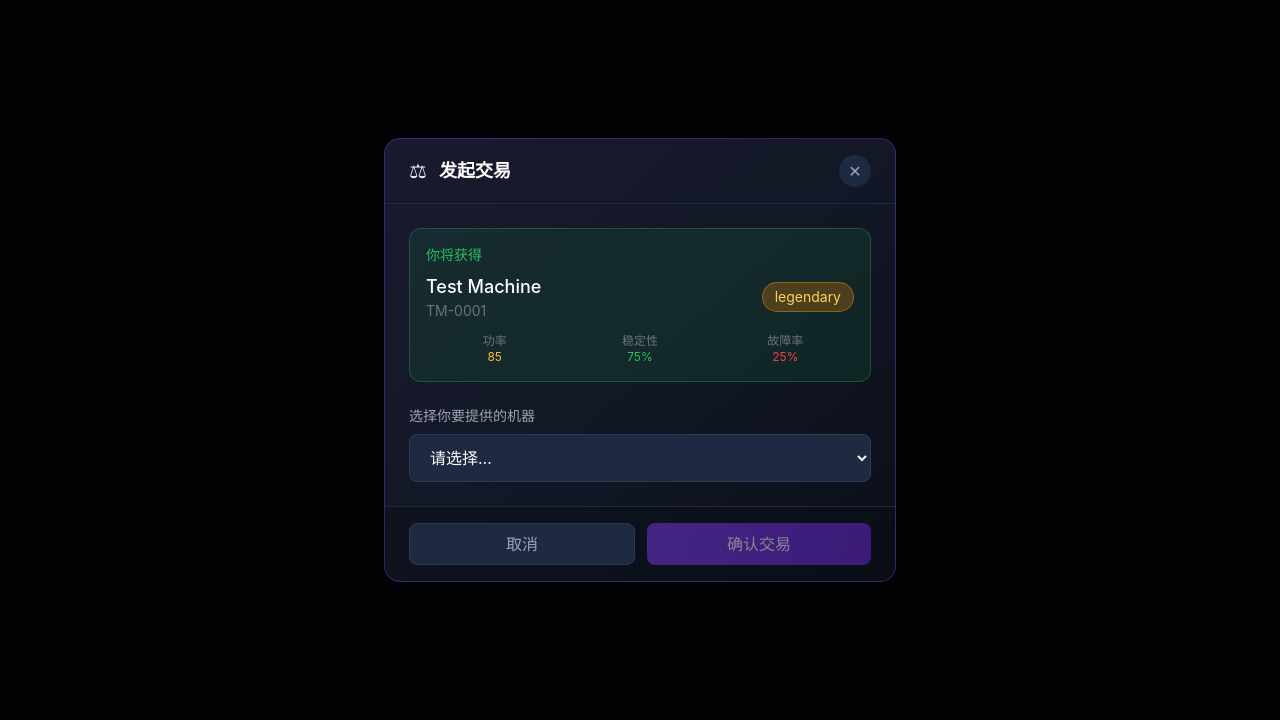
Test case: TradeProposalModal › Submission Success (AC-EXCHANGE-UI-006, AC-EXCHANGE-UI-007) › should show success state after submission
# Select a machine
Select "Alpha Machine (rare) - MC-0001" in the dropdown at [640, 458], box left=409, top=434, right=871, bottom=482
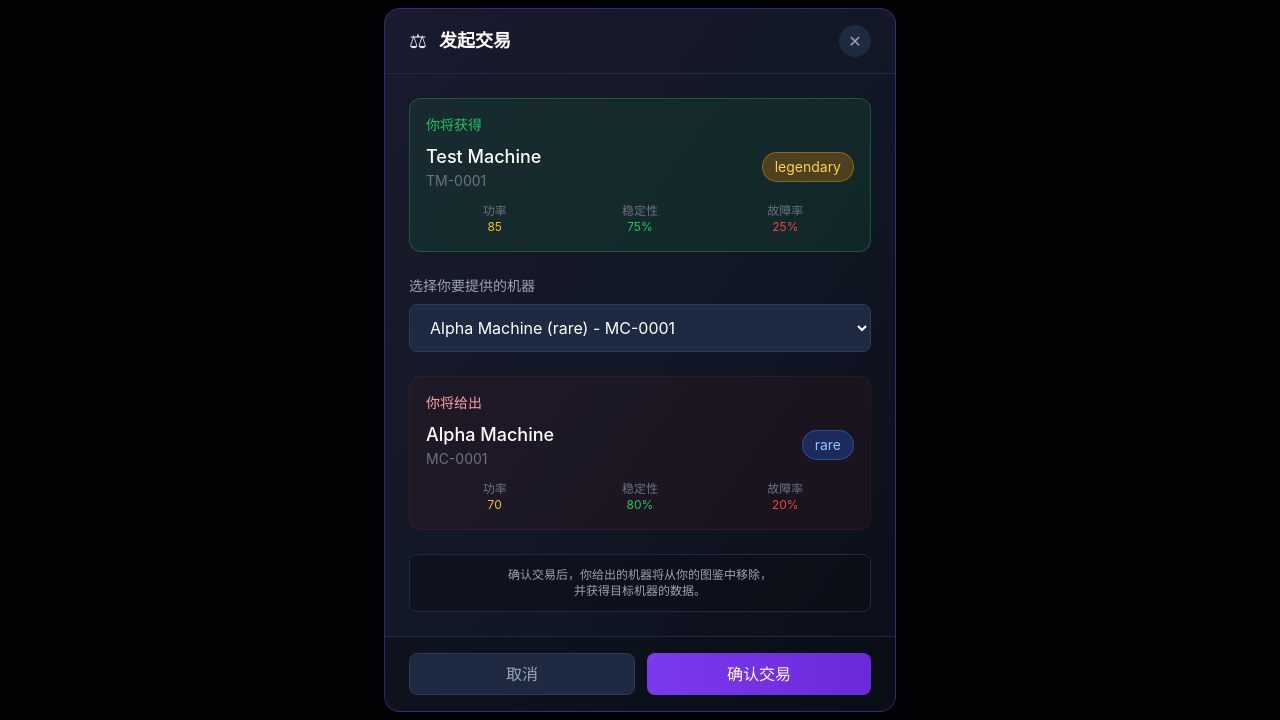
# Click submit
Click the button "确认交易".
click(759, 674)  # box left=647, top=653, right=871, bottom=695
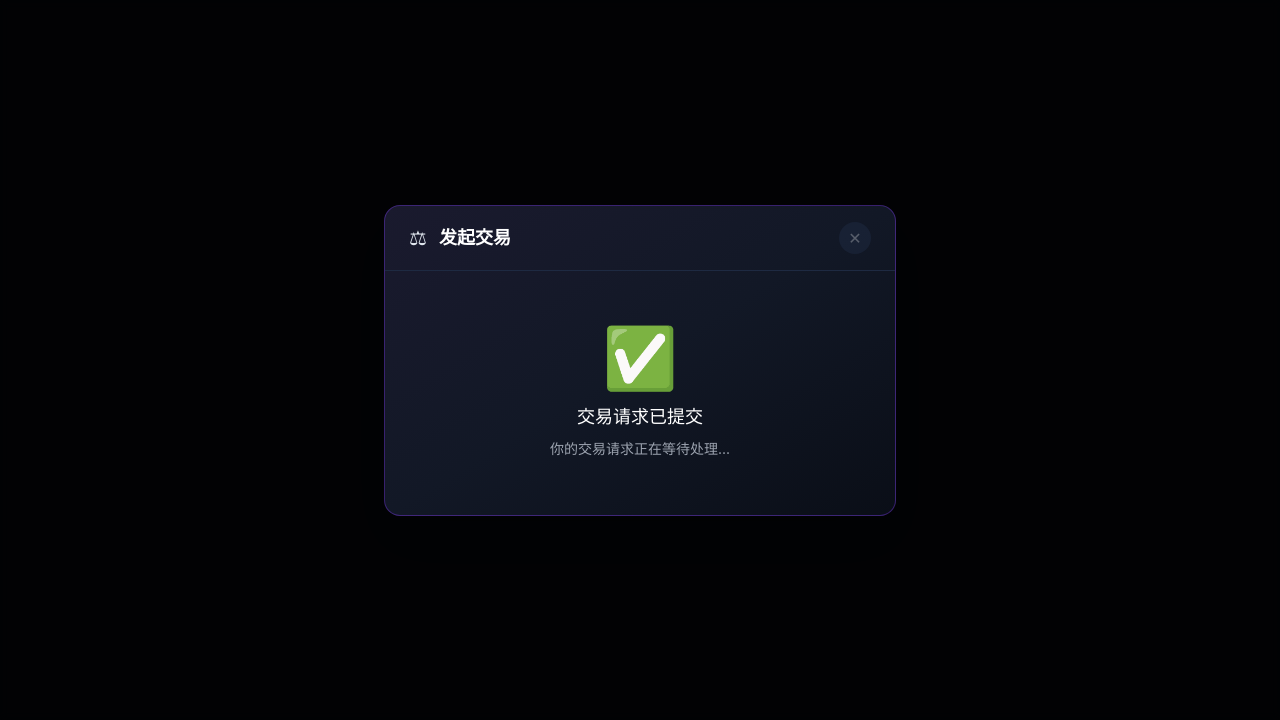
Now the heading "交易请求已提交" is shown, box left=577, top=406, right=703, bottom=426
Now the text "你的交易请求正在等待处理..." is shown, box left=550, top=440, right=730, bottom=456
